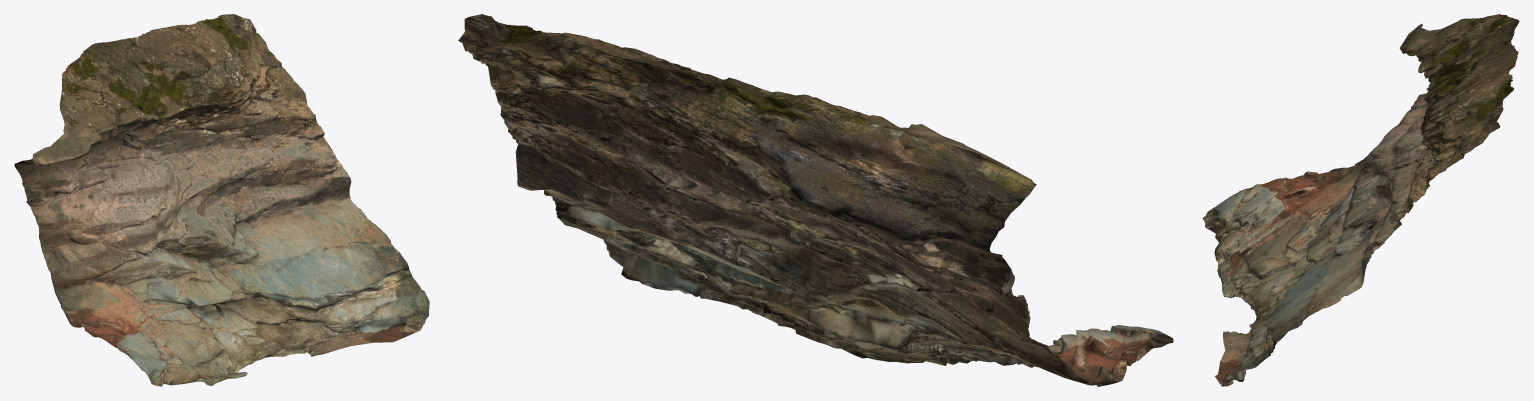
The model's file is rock_face_01.glb.
3 views of the same model, side by side, from view 1: azimuth 30°, elevation 25°; view 2: azimuth 150°, elevation 25°; view 3: azimuth 270°, elevation 25° (orthographic). The views are drawn at different scales.
Visible parts, largest first — view 1: rock_face_01; view 2: rock_face_01; view 3: rock_face_01.
Part boxes in pixels (bbox=[...]): rock_face_01: bbox=[14, 14, 429, 386]; rock_face_01: bbox=[458, 14, 1173, 386]; rock_face_01: bbox=[1202, 14, 1519, 386].
Bounding box in the file's own units: 4.95 × 3.56 × 3.83.
1 material, 1 textured.
